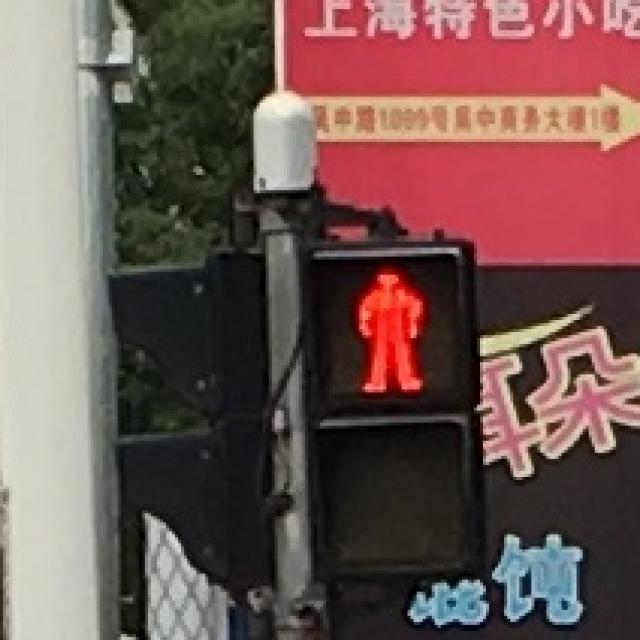red-crossing: (314, 249, 456, 397)
